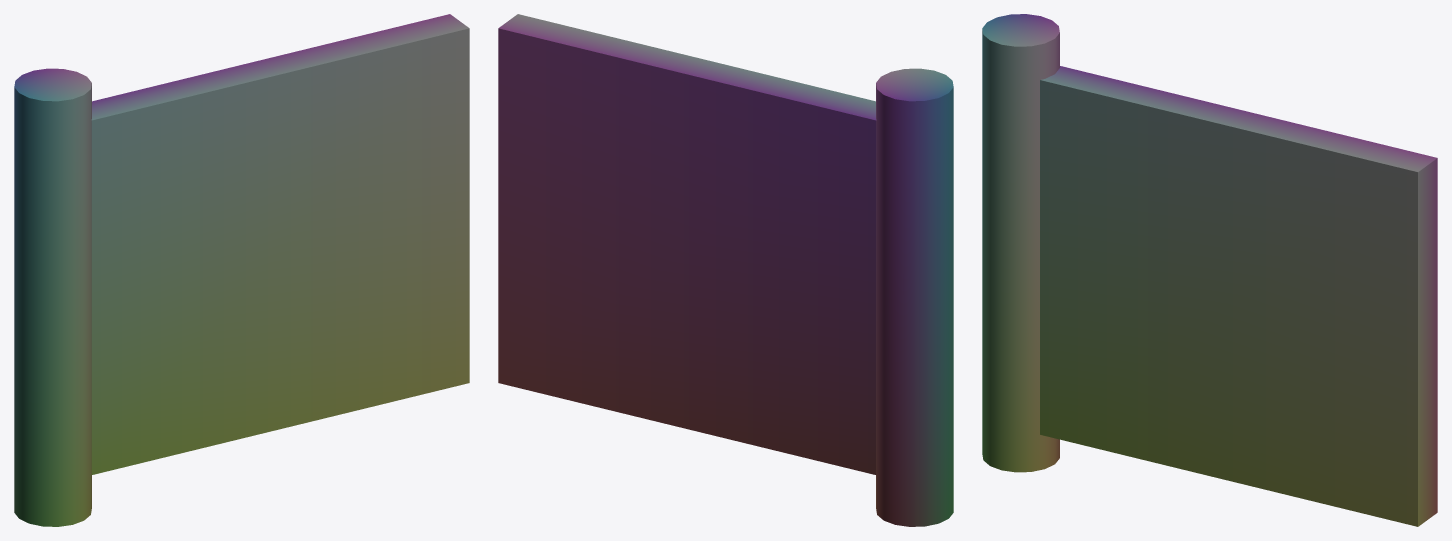
Rendered from SM_Flag_3x1x2.gltf.
3 renders of one model, left to right at view 1: azimuth 30°, elevation 25°; view 2: azimuth 150°, elevation 25°; view 3: azimuth 330°, elevation 25°, orthographic.
Parts seen in each view (by area): view 1: SM_Flag_3x1x2; view 2: SM_Flag_3x1x2; view 3: SM_Flag_3x1x2.
Boxes of the visible parts, <box> form: SM_Flag_3x1x2: <box>14,14,469,526</box>; SM_Flag_3x1x2: <box>498,14,953,526</box>; SM_Flag_3x1x2: <box>982,14,1437,526</box>.
Bounding box in the file's own units: 0.65 × 0.6 × 0.1.
